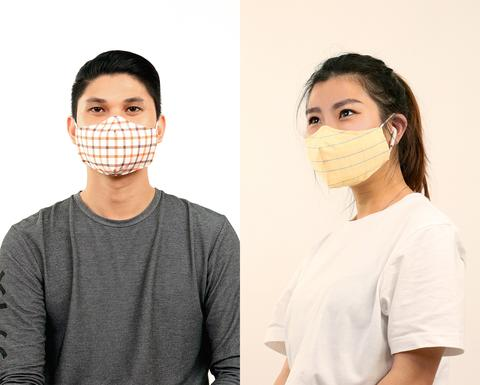mask: (64, 115, 171, 179), (294, 125, 396, 188)
